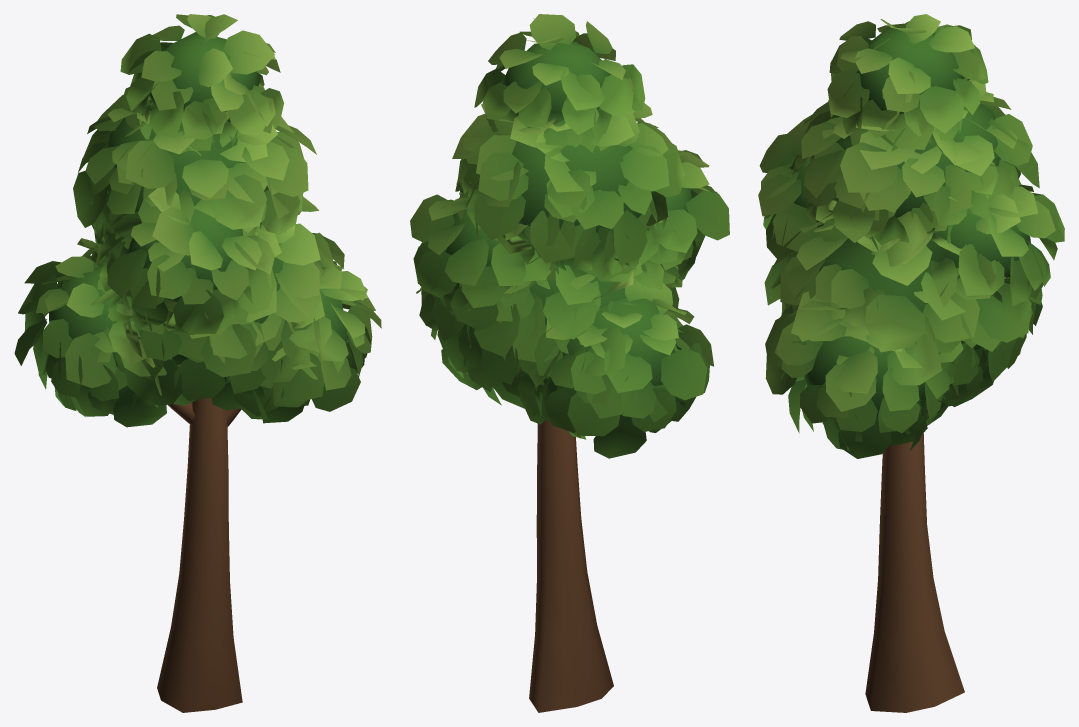
File: tree_common_b.glb
3 renders of one model, left to right at view 1: azimuth 30°, elevation 25°; view 2: azimuth 150°, elevation 25°; view 3: azimuth 270°, elevation 25°, orthographic. The views are drawn at different scales.
Parts seen in each view (by area): view 1: tree_common_b; view 2: tree_common_b; view 3: tree_common_b.
Boxes of the visible parts, x1,y1,x2,y2 form: tree_common_b: (14,14,381,712); tree_common_b: (410,14,729,712); tree_common_b: (758,14,1064,712).
Bounding box in the file's own units: 2.07 × 4.27 × 1.73.
